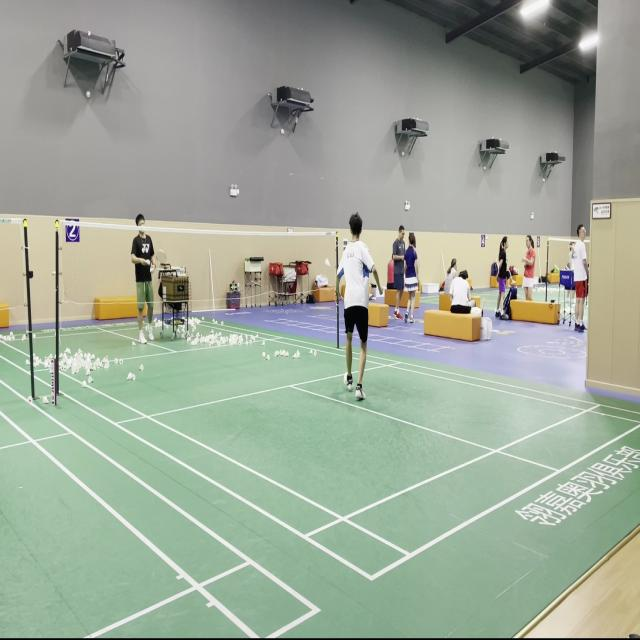shuttlecock: (325, 258, 330, 268)
